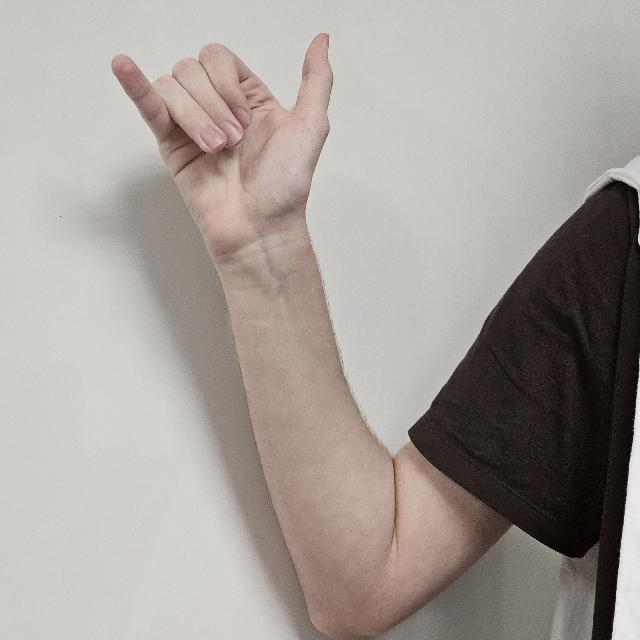Direita: (108, 35, 334, 302)
